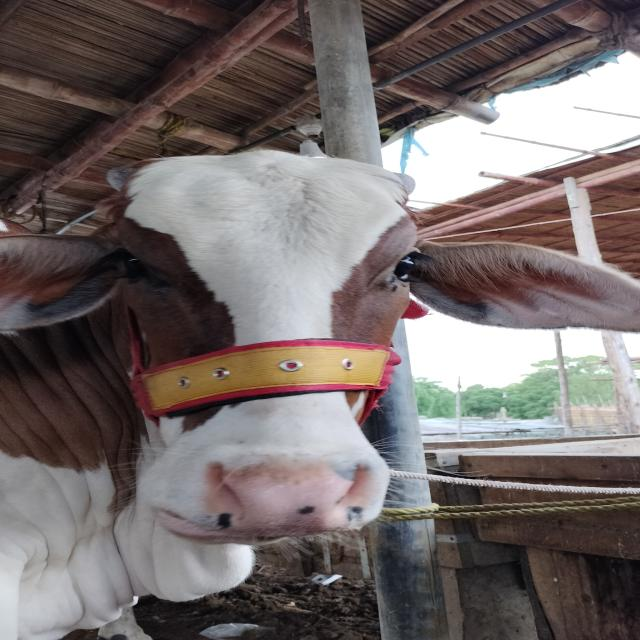muzzles: (144, 448, 396, 545)
